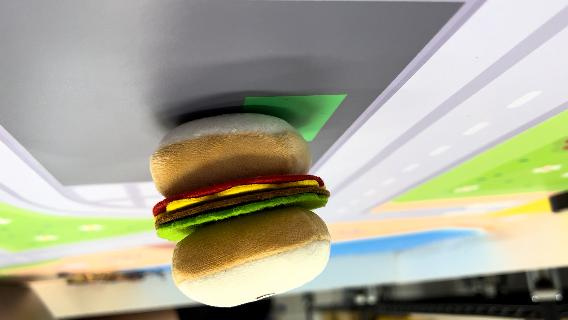sandwich: (146, 110, 336, 308)
